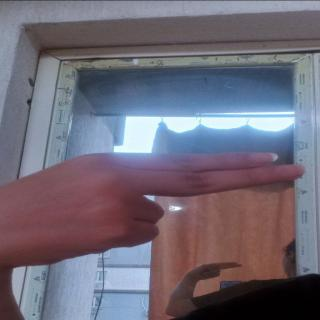AYN: (0, 144, 320, 263)
